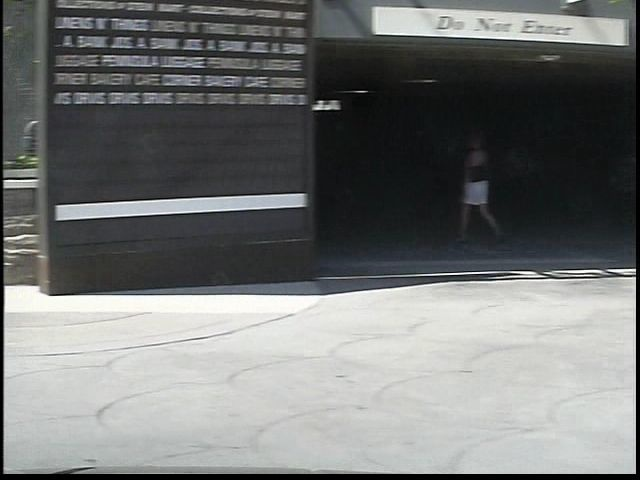person: (432, 129, 491, 249)
